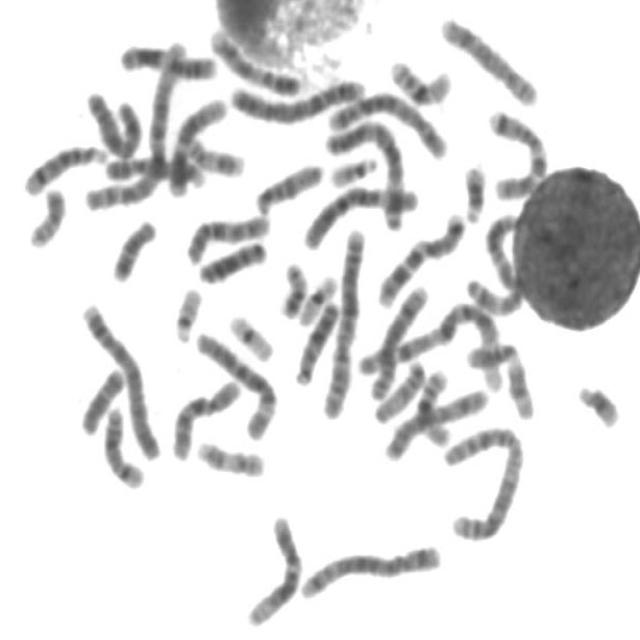A1: (80, 30, 194, 215), (358, 296, 509, 396)
A2: (439, 418, 528, 544), (318, 220, 369, 420)
A3: (322, 111, 411, 234), (463, 205, 527, 318)
B4: (76, 294, 166, 463), (225, 68, 370, 126)
B5: (321, 83, 451, 162), (295, 535, 446, 602)
C10: (167, 371, 246, 462), (182, 205, 274, 266)
C11: (462, 333, 539, 422), (116, 34, 222, 82)
C12: (242, 506, 306, 629), (162, 88, 232, 199)
C6: (192, 322, 281, 442), (299, 177, 422, 250)
C7: (372, 204, 470, 309), (483, 101, 552, 203)
C8: (436, 8, 544, 108), (363, 277, 432, 403)
C9: (204, 18, 308, 99), (99, 148, 210, 192)
D13: (291, 293, 344, 388), (194, 231, 272, 287)
D14: (18, 137, 112, 198), (98, 399, 149, 491)
D15: (250, 154, 328, 217), (369, 351, 430, 426)
E16: (384, 51, 456, 106), (415, 361, 455, 447)
E17: (192, 432, 270, 479), (184, 130, 248, 179)
E18: (76, 360, 129, 438), (108, 210, 162, 284)
F19: (224, 305, 278, 363), (294, 267, 342, 326)
F20: (24, 179, 71, 250), (276, 255, 312, 320)
G21: (572, 376, 626, 430), (459, 156, 491, 225)
G22: (170, 278, 206, 345), (325, 150, 382, 189)
X: (380, 382, 493, 463), (81, 83, 147, 162)
